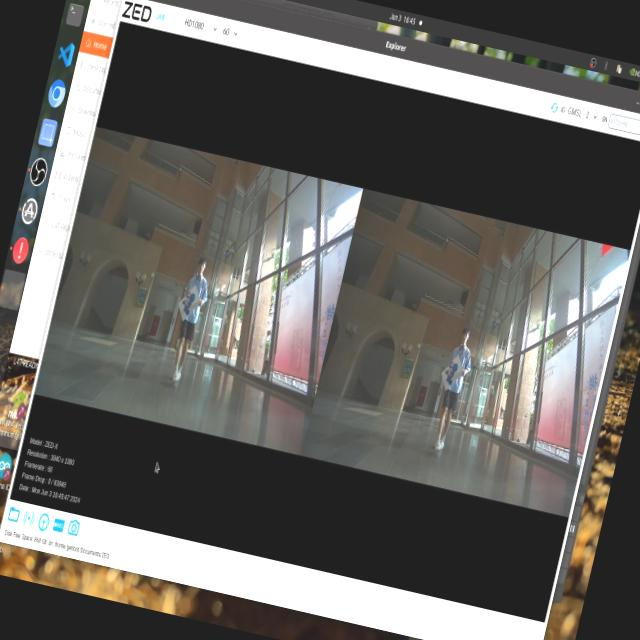blue: (178, 285, 200, 321), (441, 359, 461, 390)
